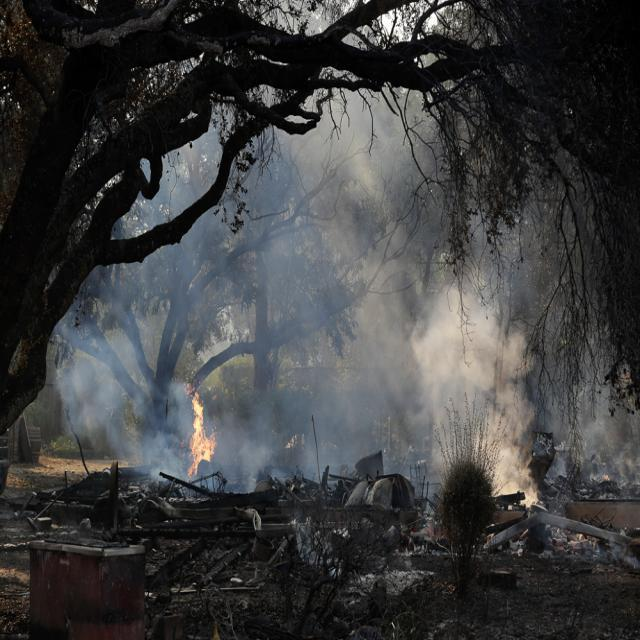Fire: (180, 374, 224, 482)
Smoke: (130, 123, 448, 525), (47, 276, 318, 508), (404, 251, 552, 526), (538, 330, 640, 514)
